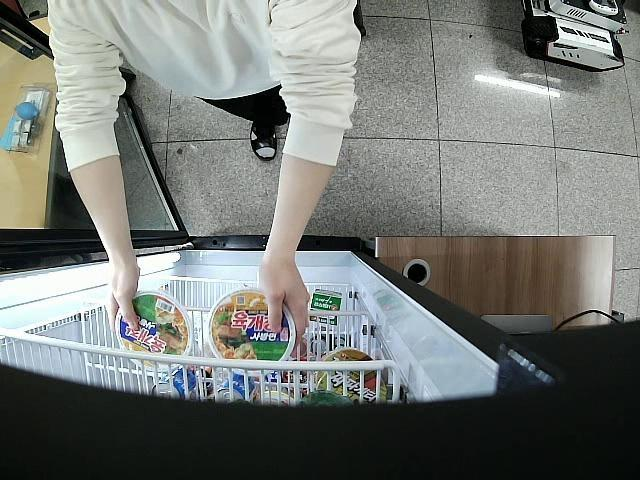09_yukGaeJang: (207, 286, 296, 374), (116, 291, 193, 374)
